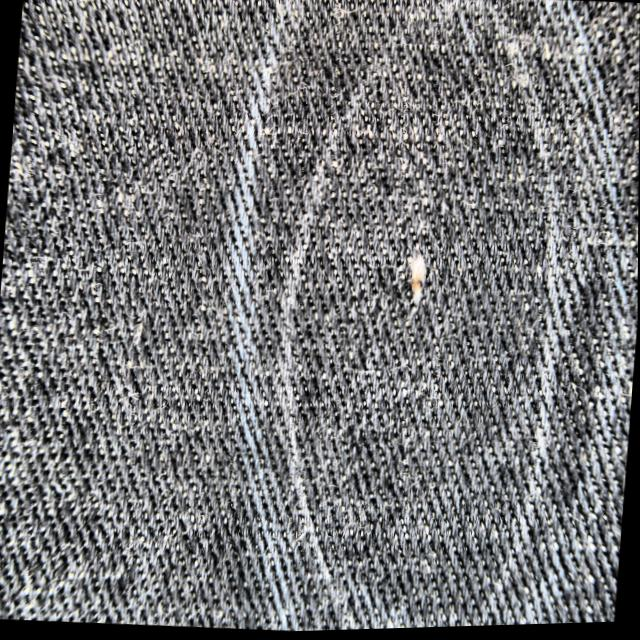Hole: (381, 227, 453, 329)
